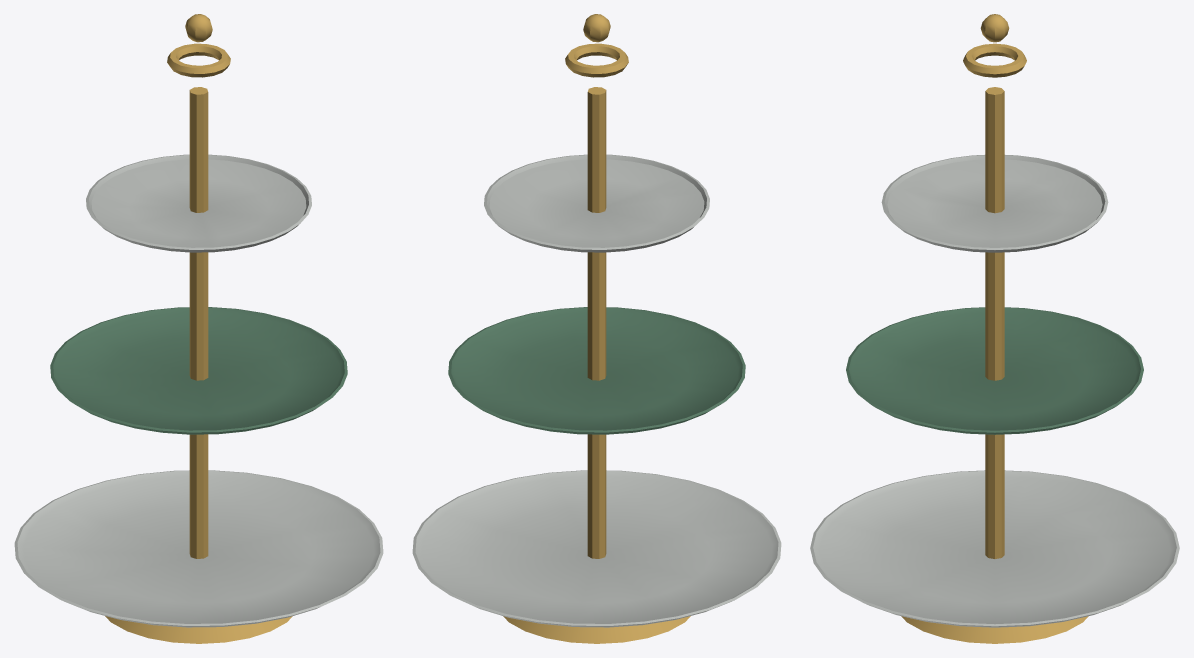
The model's file is tea-tower.glb.
The picture shows the model from 3 angles, left to right: view 1: azimuth 30°, elevation 25°; view 2: azimuth 150°, elevation 25°; view 3: azimuth 270°, elevation 25°; orthographic projection.
Parts seen in each view (by area): view 1: plates__ceramic, stand__brass; view 2: plates__ceramic, stand__brass; view 3: plates__ceramic, stand__brass.
Boxes of the visible parts, <box> form: plates__ceramic: <box>14,154,383,627</box>; stand__brass: <box>105,14,292,643</box>; plates__ceramic: <box>412,154,781,627</box>; stand__brass: <box>503,14,690,643</box>; plates__ceramic: <box>810,155,1179,627</box>; stand__brass: <box>901,14,1088,643</box>.
Bounding box in the file's own units: 0.31 × 0.542 × 0.31.
